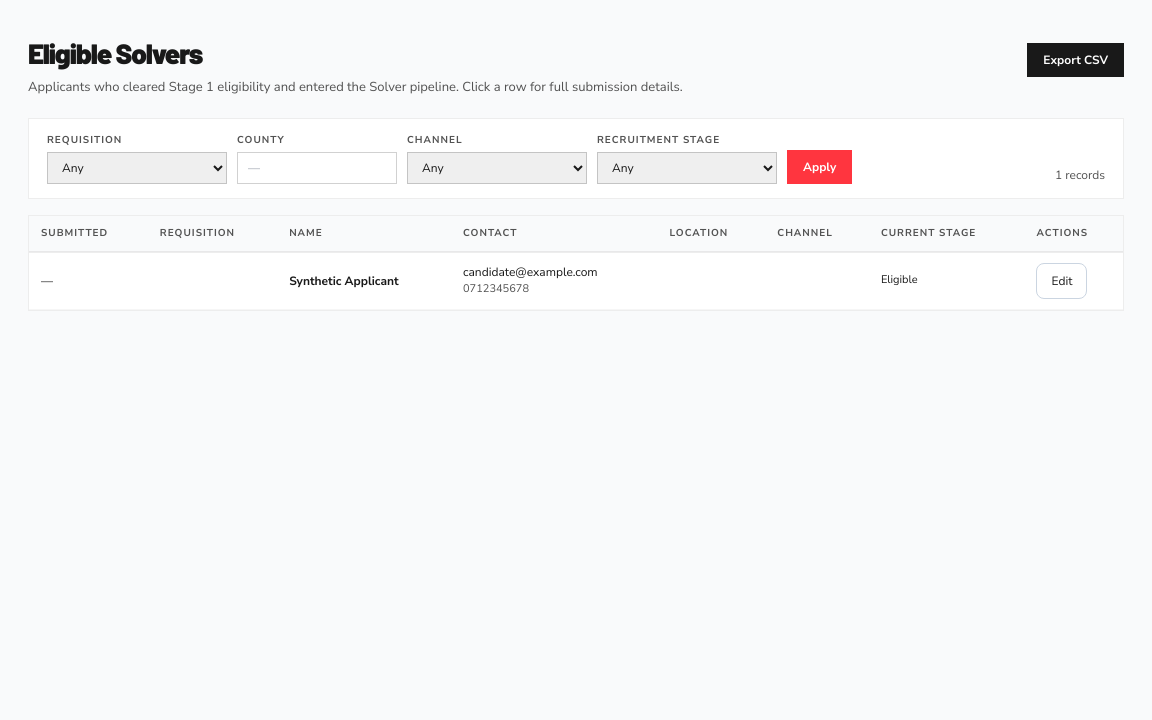
Test: eligible rows have a visible Edit button and supported stage options
Click the button "Edit" at (1062, 280), box x1=1036 y1=262 x2=1087 y2=298
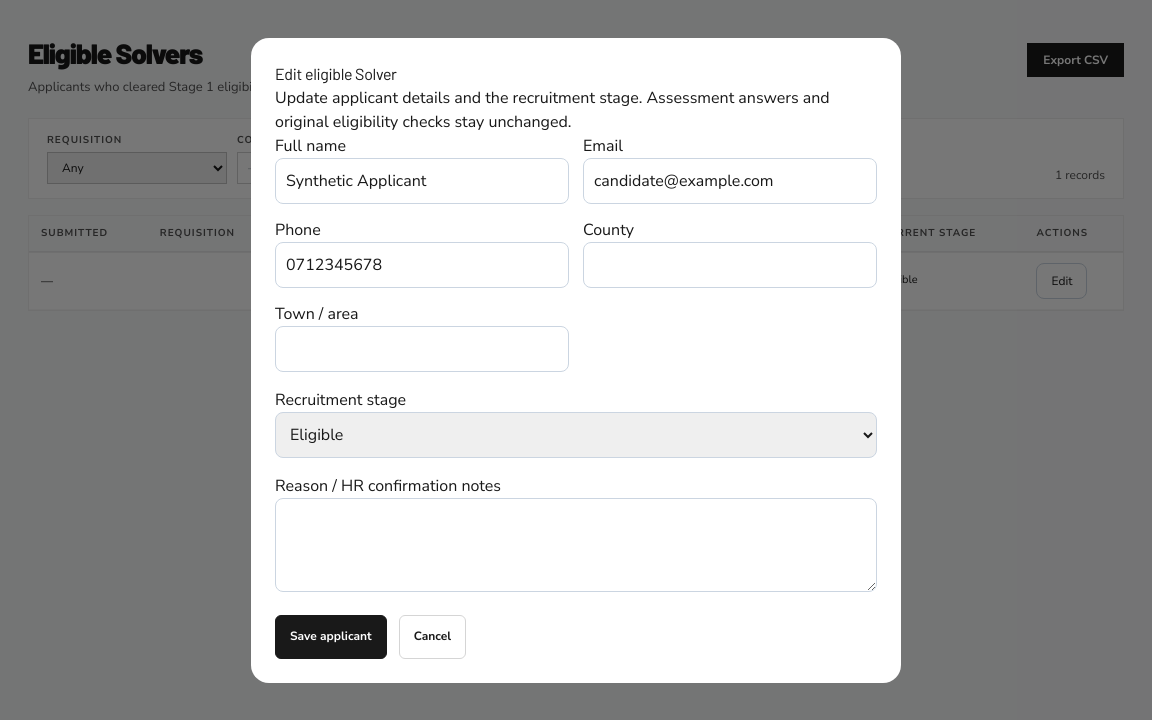
Check: the dialog is shown
